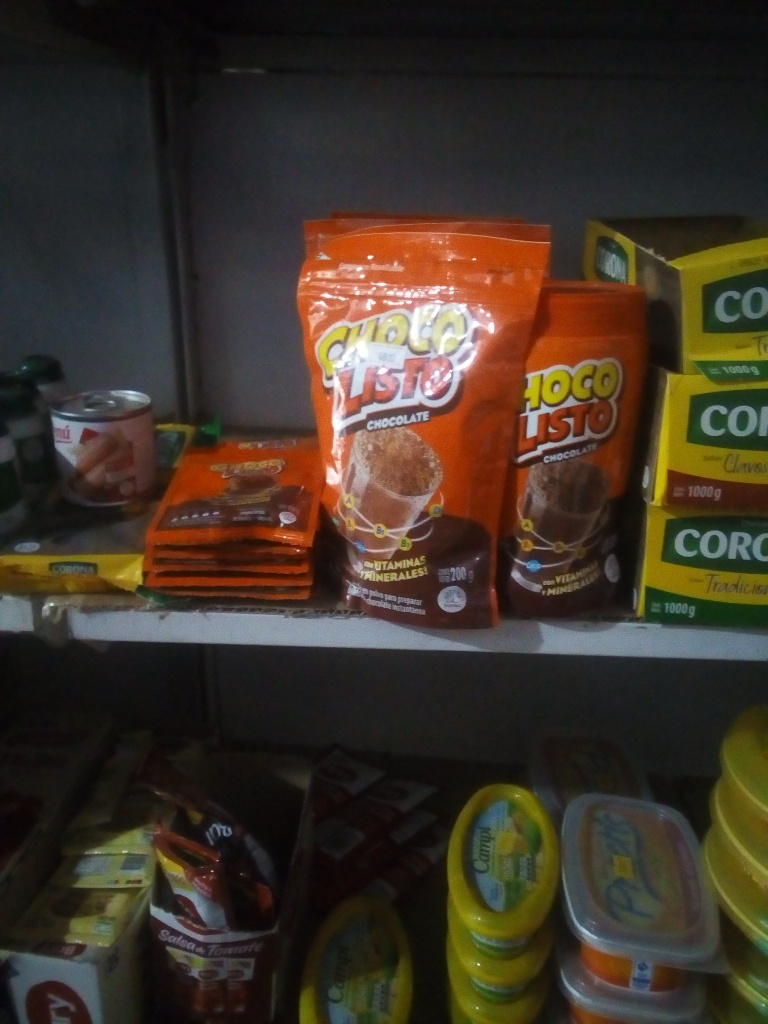COL0170103SOB02000: (146, 432, 307, 543)
